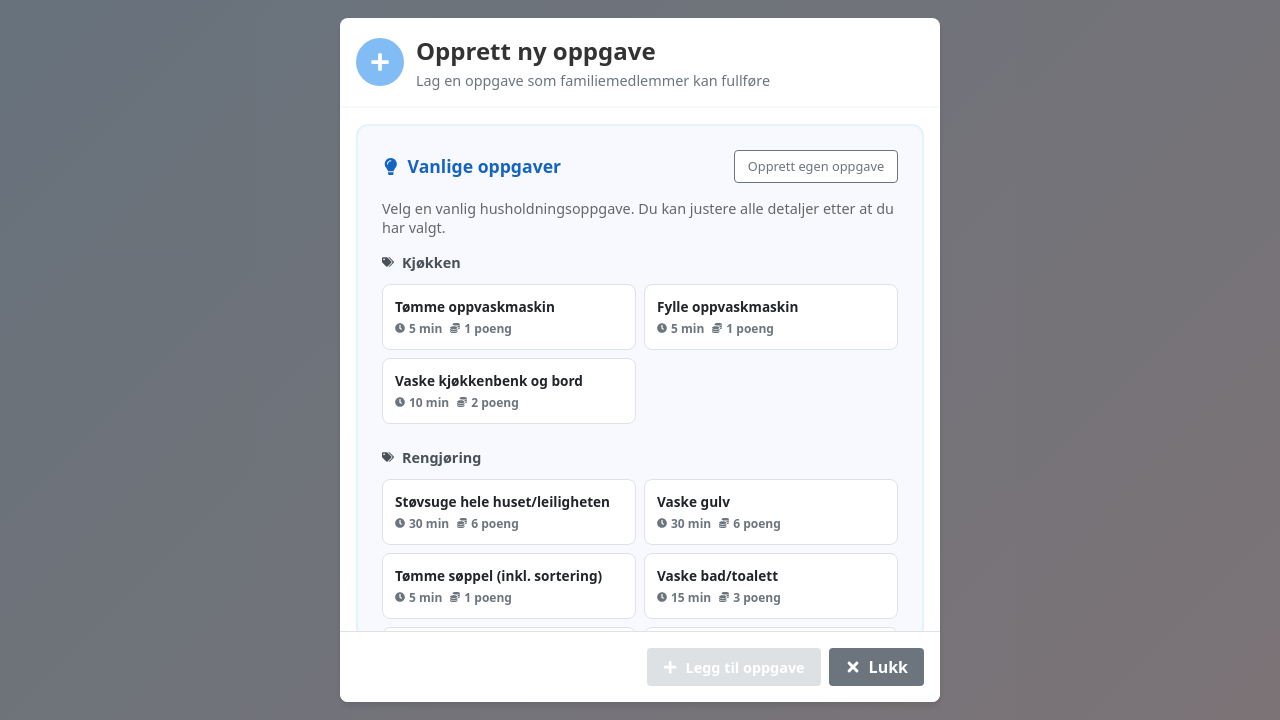
CreateTaskForm Quick Start › should allow hiding quick start manually
The width and height of the screenshot is (1280, 720).
# Click "Opprett egen oppgave" button
Click the button "Opprett egen oppgave": coordinates (816, 166) [734,150,898,183]
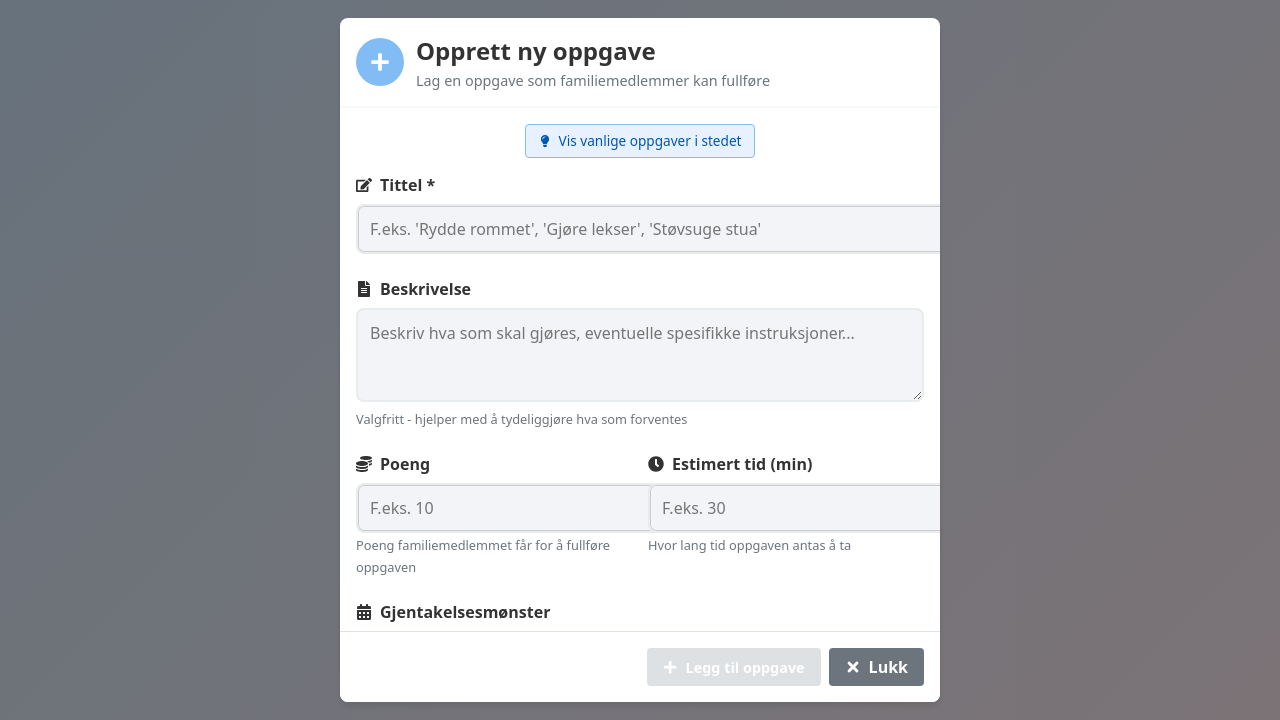
Expected: the field with placeholder "F.eks. 'Rydde rommet', 'Gjøre lekser', 'Støvsuge stua'" is shown, [356,204,940,254]
